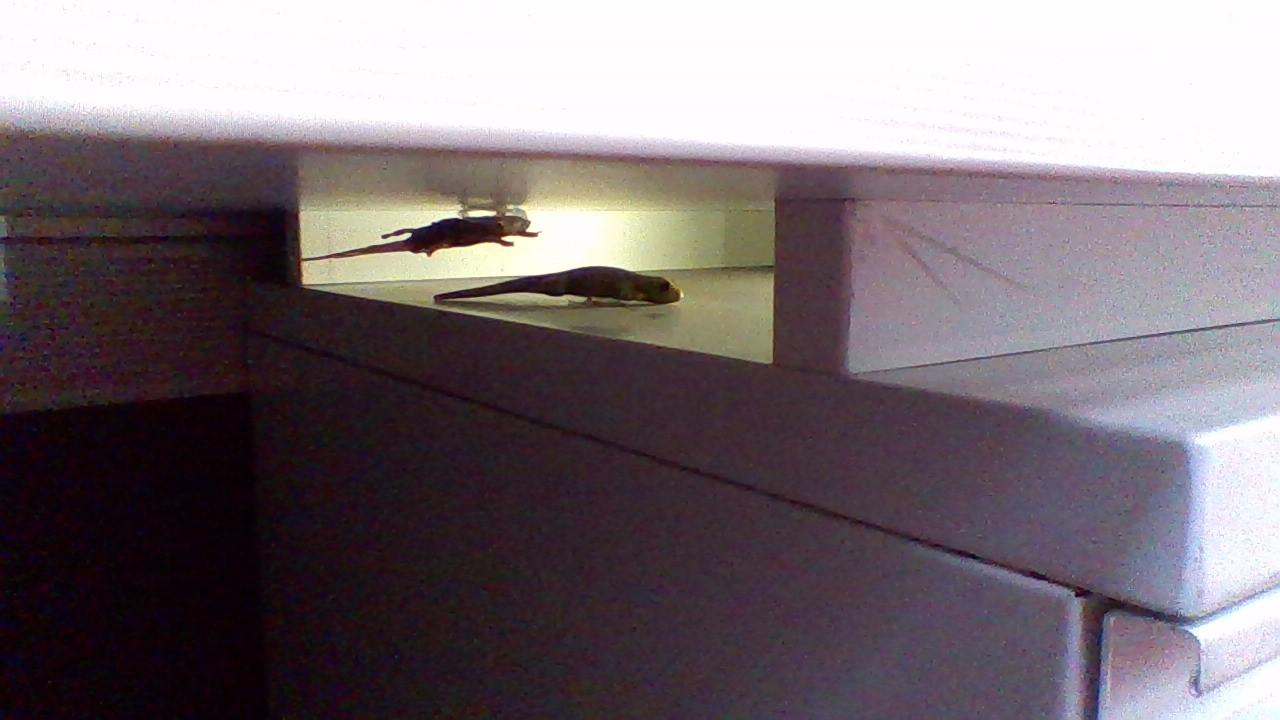cockroach: (323, 193, 558, 263)
lizard: (425, 265, 717, 336)
